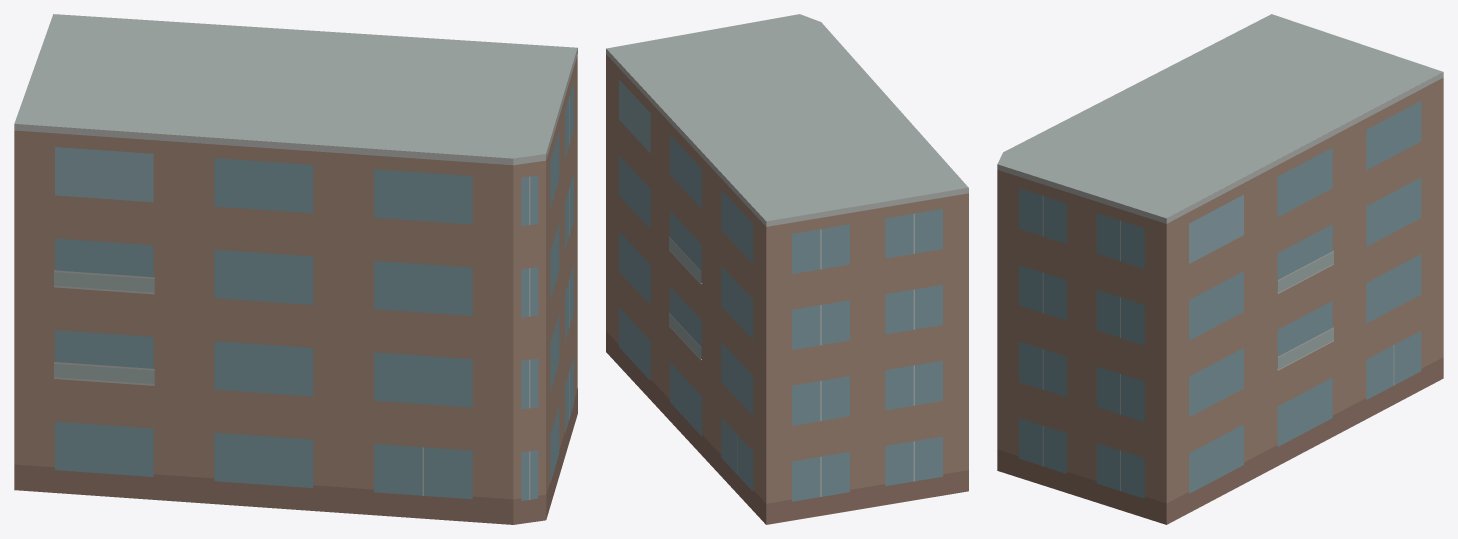
Rendered from survey-upis-32670778.glb.
The picture shows the model from 3 angles, left to right: view 1: azimuth 30°, elevation 25°; view 2: azimuth 150°, elevation 25°; view 3: azimuth 270°, elevation 25°; orthographic projection. The views are drawn at different scales.
Parts seen in each view (by area): view 1: survey-upis-32670778.tmp; view 2: survey-upis-32670778.tmp; view 3: survey-upis-32670778.tmp.
Boxes of the visible parts, <box> form: survey-upis-32670778.tmp: <box>14,14,577,524</box>; survey-upis-32670778.tmp: <box>606,14,968,524</box>; survey-upis-32670778.tmp: <box>997,14,1443,524</box>.
Size of the model in its own units: 19.32 by 13.5 by 17.83.
